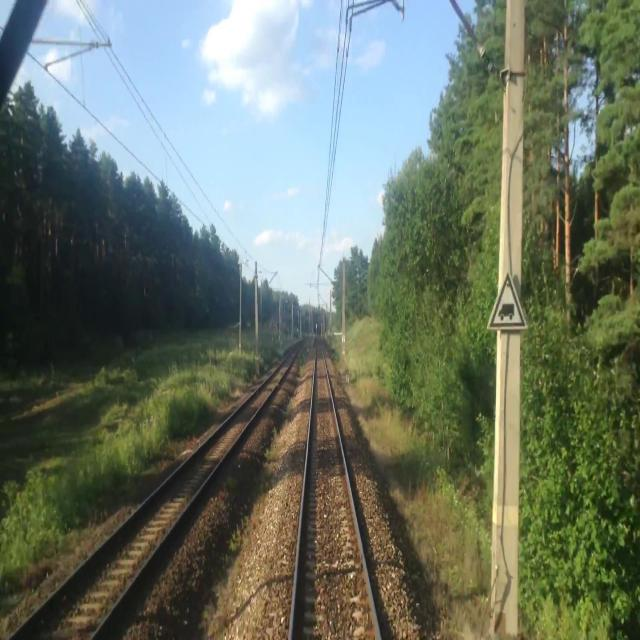rail-track: (293, 345, 377, 639)
